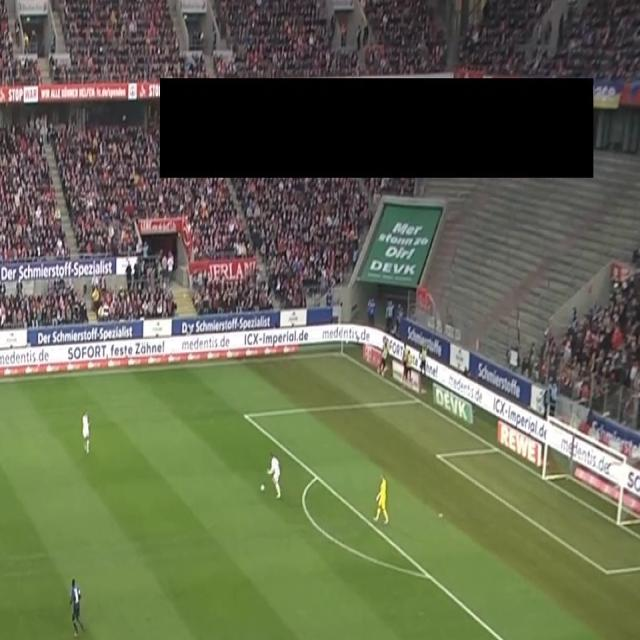ball: (260, 482, 266, 493)
